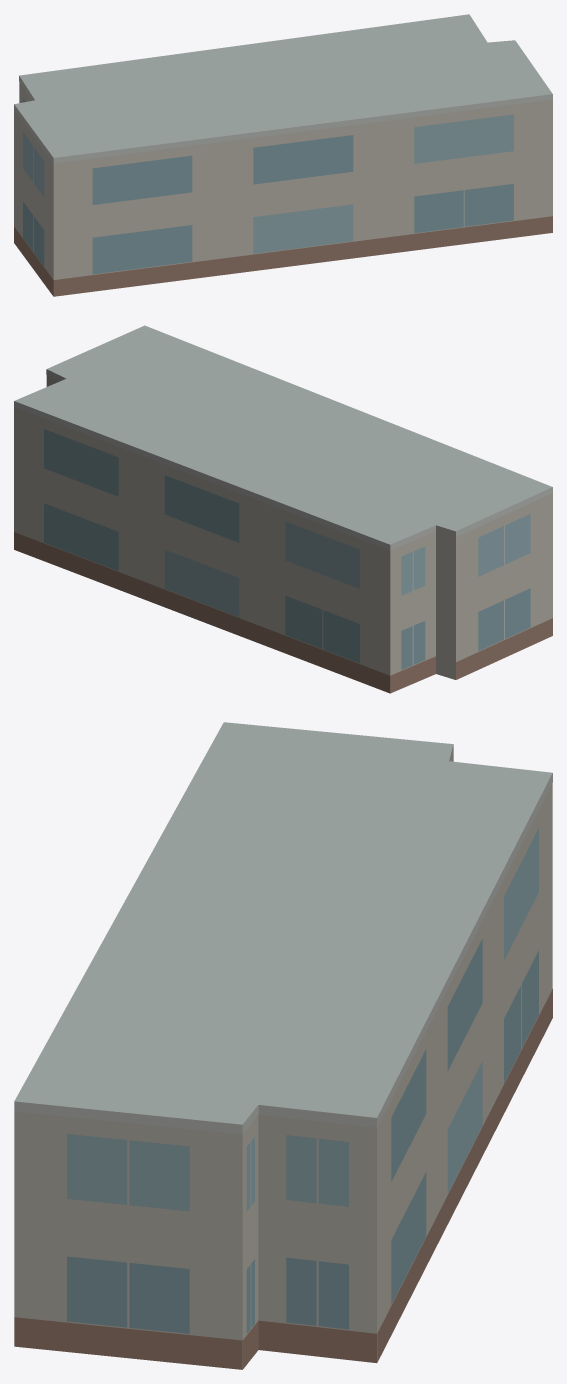
File: survey-upis-32862645.glb
3 views of the same model, one above another, from view 1: azimuth 30°, elevation 25°; view 2: azimuth 150°, elevation 25°; view 3: azimuth 270°, elevation 25° (orthographic). The views are drawn at different scales.
Visible parts, largest first — view 1: survey-upis-32862645.tmp; view 2: survey-upis-32862645.tmp; view 3: survey-upis-32862645.tmp.
Boxes of the visible parts, bbox=[...] form: survey-upis-32862645.tmp: bbox=[14, 14, 552, 296]; survey-upis-32862645.tmp: bbox=[14, 325, 552, 693]; survey-upis-32862645.tmp: bbox=[14, 722, 552, 1369].
Bounding box in the file's own units: 21.5 × 6.1 × 12.16.
